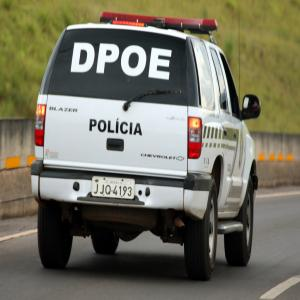Vehicle-registration-plate: (92, 176, 136, 200)
